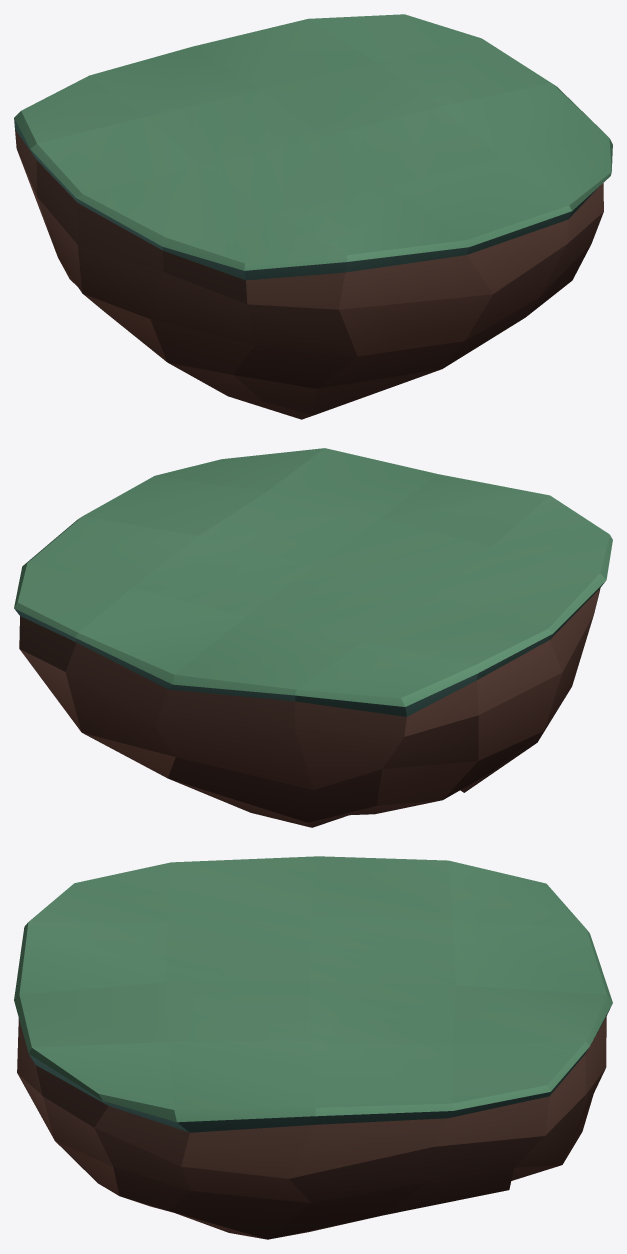
File: islandM.fbx
The picture shows the model from 3 angles, top to bottom: view 1: azimuth 30°, elevation 25°; view 2: azimuth 150°, elevation 25°; view 3: azimuth 270°, elevation 25°; orthographic projection. The views are drawn at different scales.
Parts seen in each view (by area): view 1: IslandM; view 2: IslandM; view 3: IslandM.
Part boxes in pixels (left/top/right/bottom): IslandM: left=14, top=14, right=612, bottom=419; IslandM: left=14, top=448, right=612, bottom=827; IslandM: left=14, top=856, right=612, bottom=1239.
Size of the model in its own units: 10.63 by 4.63 by 10.47.
